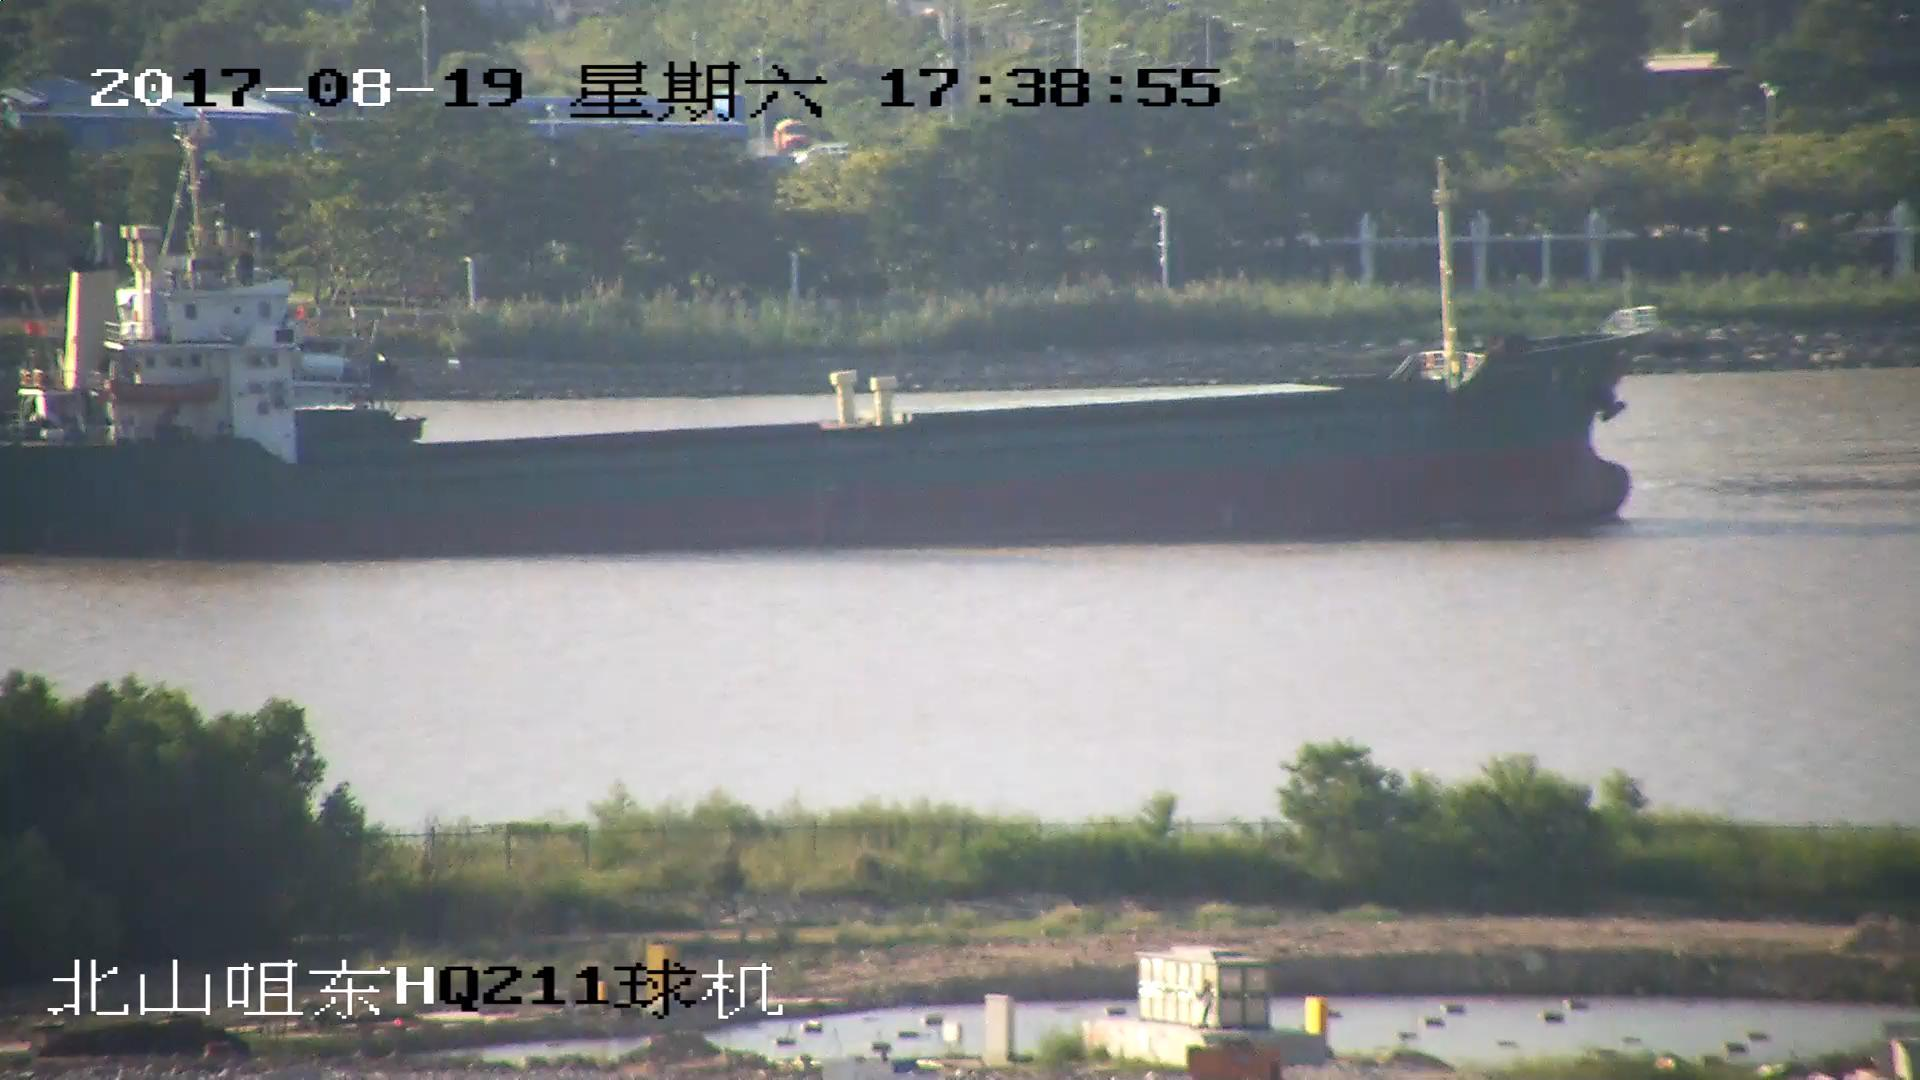Ship: (3, 191, 1639, 531)
